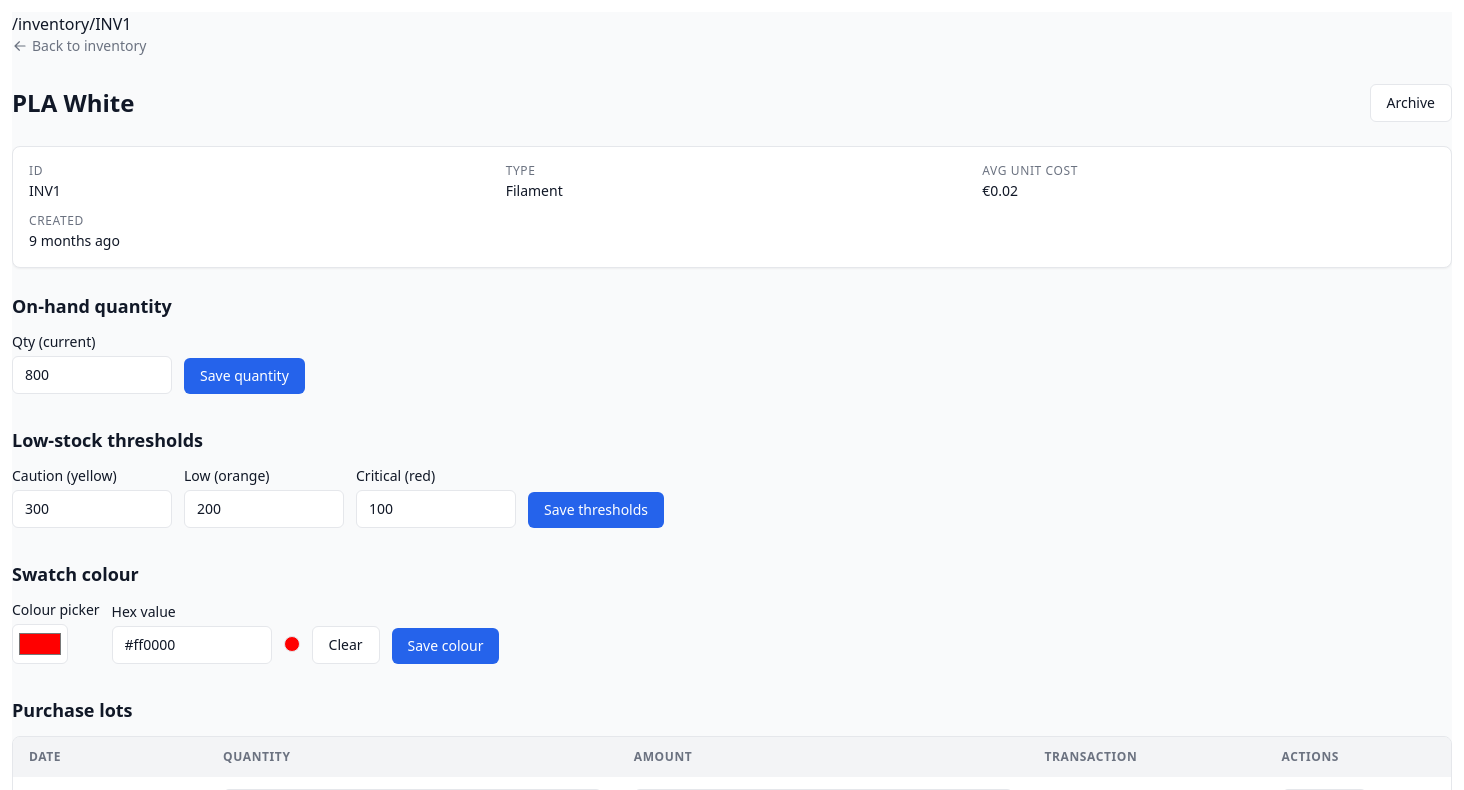
Scenario: InventoryDetailPage › ColourEditor › mirrors a colour chosen in the picker into the hex field
In the colour field with test id "inventory-detail-colour-picker": (40, 644) [12,624,68,664], type "#123456"
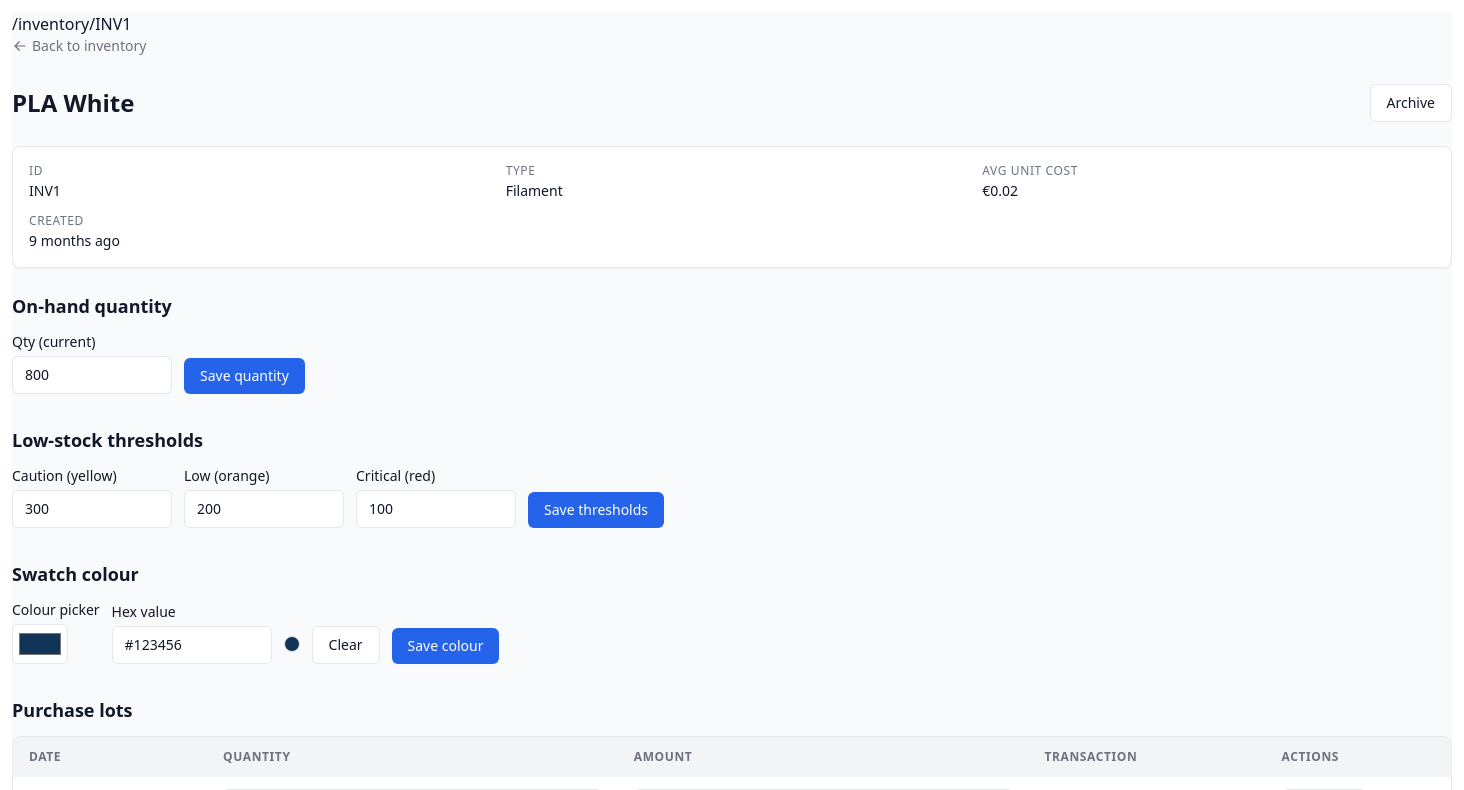
expect the field with test id "inventory-detail-colour-hex" holds "#123456": met, box [112,626,272,664]
